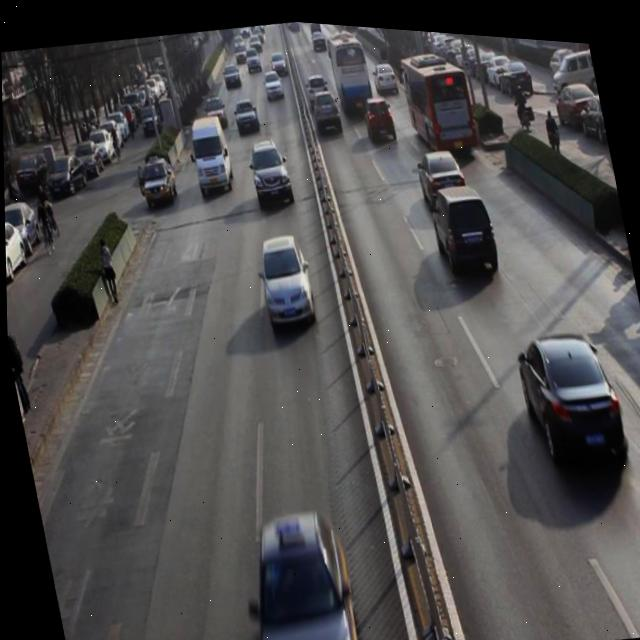car: (509, 308, 632, 473), (238, 505, 364, 640), (425, 170, 502, 278), (255, 226, 318, 332), (245, 130, 297, 209), (414, 136, 469, 205), (137, 151, 180, 207), (360, 84, 399, 141), (309, 81, 344, 132), (230, 93, 262, 134), (304, 67, 333, 109), (200, 89, 229, 128), (372, 53, 399, 90), (219, 57, 243, 88), (261, 66, 284, 97), (268, 45, 288, 73), (242, 42, 261, 70)
truck: (183, 107, 237, 200)
van: (397, 41, 479, 156), (325, 22, 375, 113)
